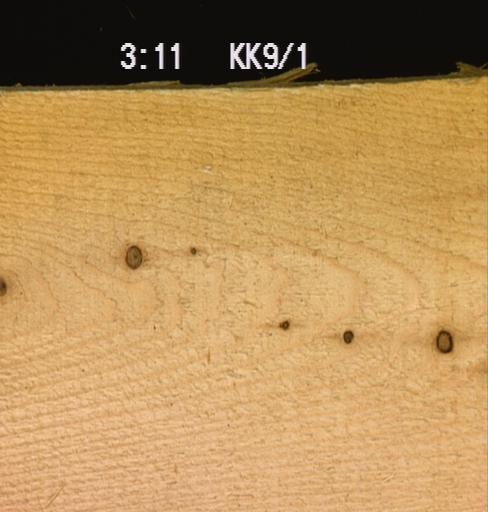dry_knot: (123, 243, 143, 268), (435, 328, 453, 353)
small_knot: (341, 327, 354, 343), (279, 317, 290, 330), (188, 243, 197, 254)
sound_knot: (0, 275, 6, 297)
